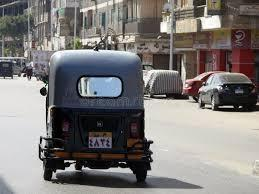keke: (42, 46, 152, 186)
